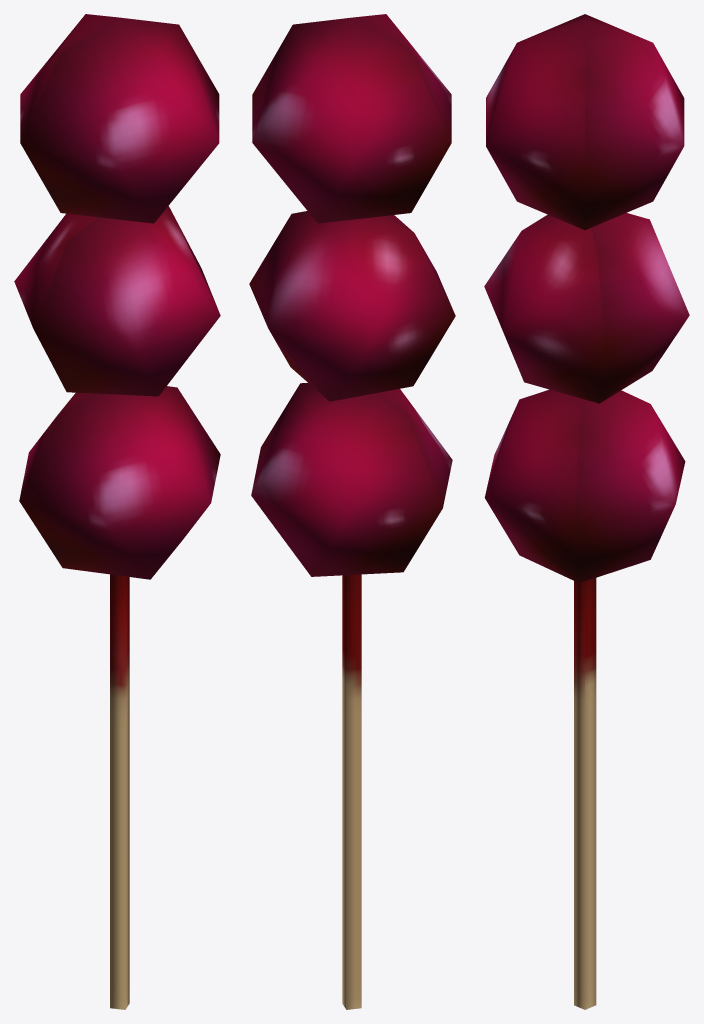
File: jsf_Grape_03.fbx
3 renders of one model, left to right at view 1: azimuth 30°, elevation 25°; view 2: azimuth 150°, elevation 25°; view 3: azimuth 270°, elevation 25°, orthographic.
Parts seen in each view (by area): view 1: jsf_Grape_03; view 2: jsf_Grape_03; view 3: jsf_Grape_03.
Part boxes in pixels (<box>): jsf_Grape_03: <box>14,14,220,1009</box>; jsf_Grape_03: <box>249,14,455,1009</box>; jsf_Grape_03: <box>484,14,689,1009</box>.
Bounding box in the file's own units: 2.61 × 12.35 × 2.34.
